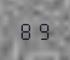eight: (19, 20, 34, 40)
nine: (35, 20, 50, 40)
